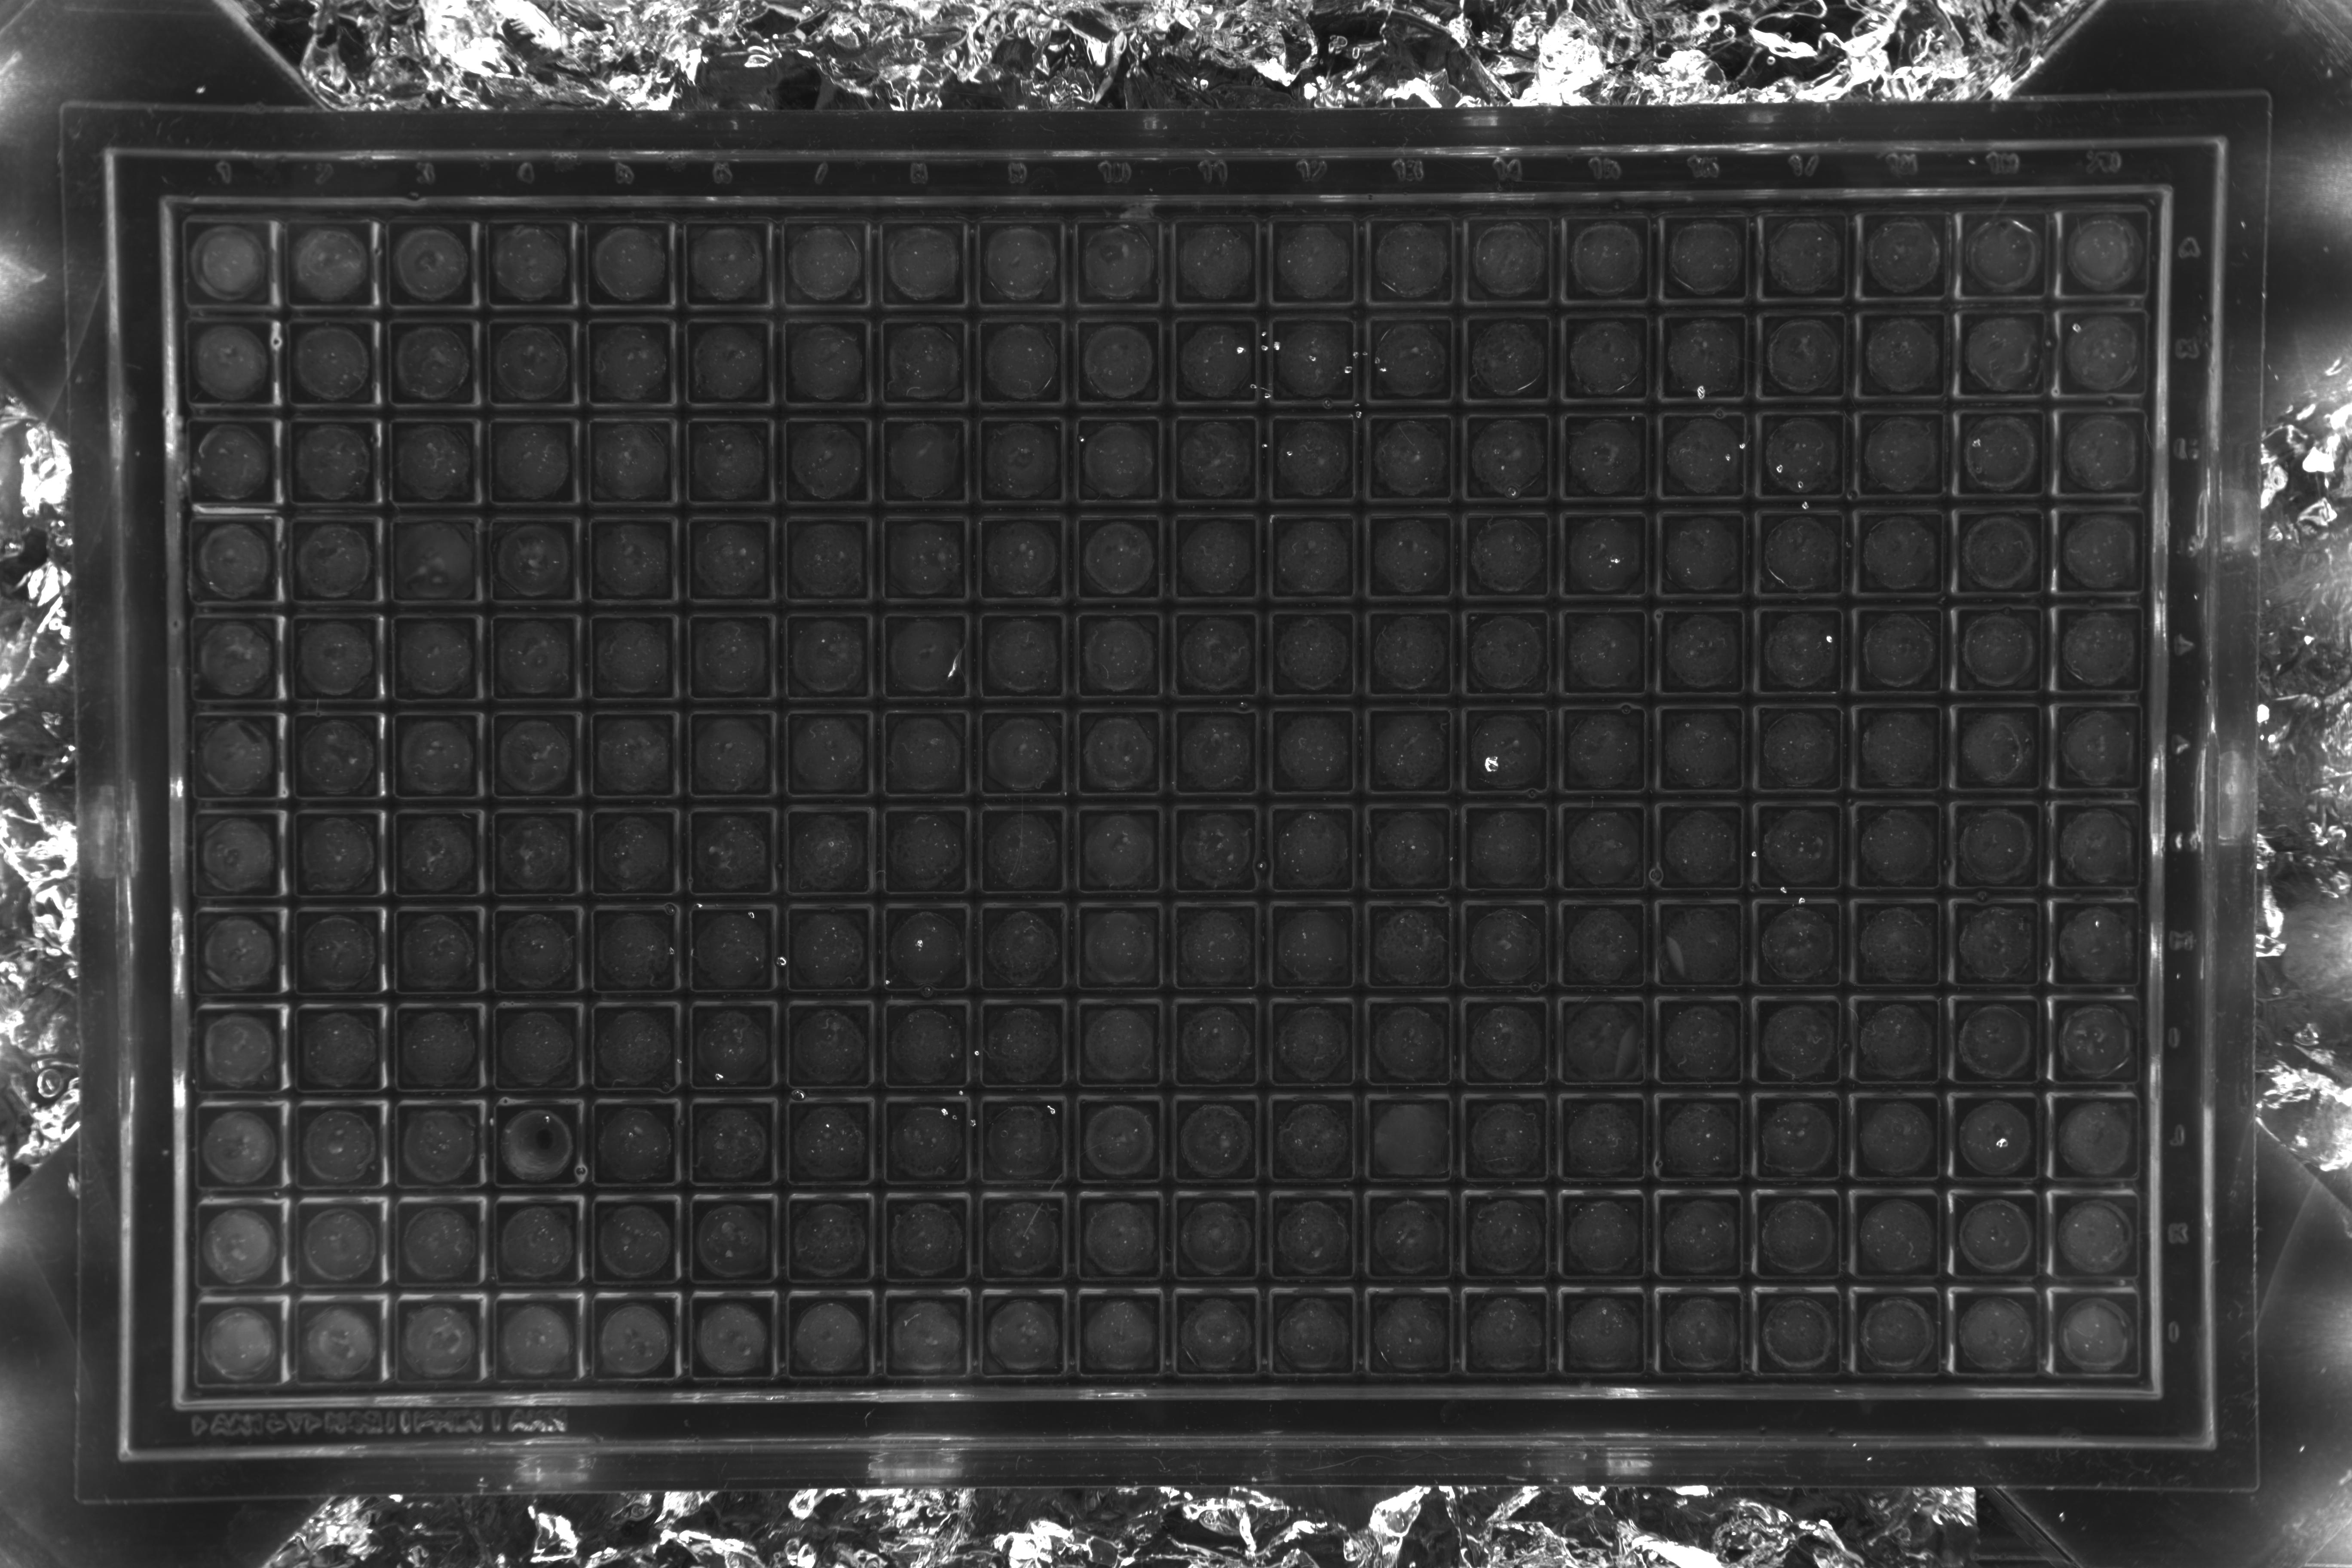WM_well: (201, 635, 290, 723), (203, 829, 292, 917), (297, 535, 387, 623), (691, 728, 780, 815), (199, 535, 287, 623), (303, 926, 390, 1013), (595, 730, 682, 817), (595, 1214, 682, 1302), (887, 824, 975, 912), (1078, 142, 1165, 229), (1176, 822, 1263, 910), (1176, 920, 1263, 1008), (1274, 726, 1361, 814), (1370, 726, 1458, 814), (1370, 532, 1458, 619), (1466, 920, 1554, 1008), (1561, 1211, 1648, 1298), (1764, 430, 1851, 518), (1766, 231, 1853, 318), (1766, 133, 1853, 220), (1956, 1017, 2044, 1104), (1963, 329, 2051, 416), (2056, 1017, 2144, 1104), (2056, 919, 2144, 1006)
